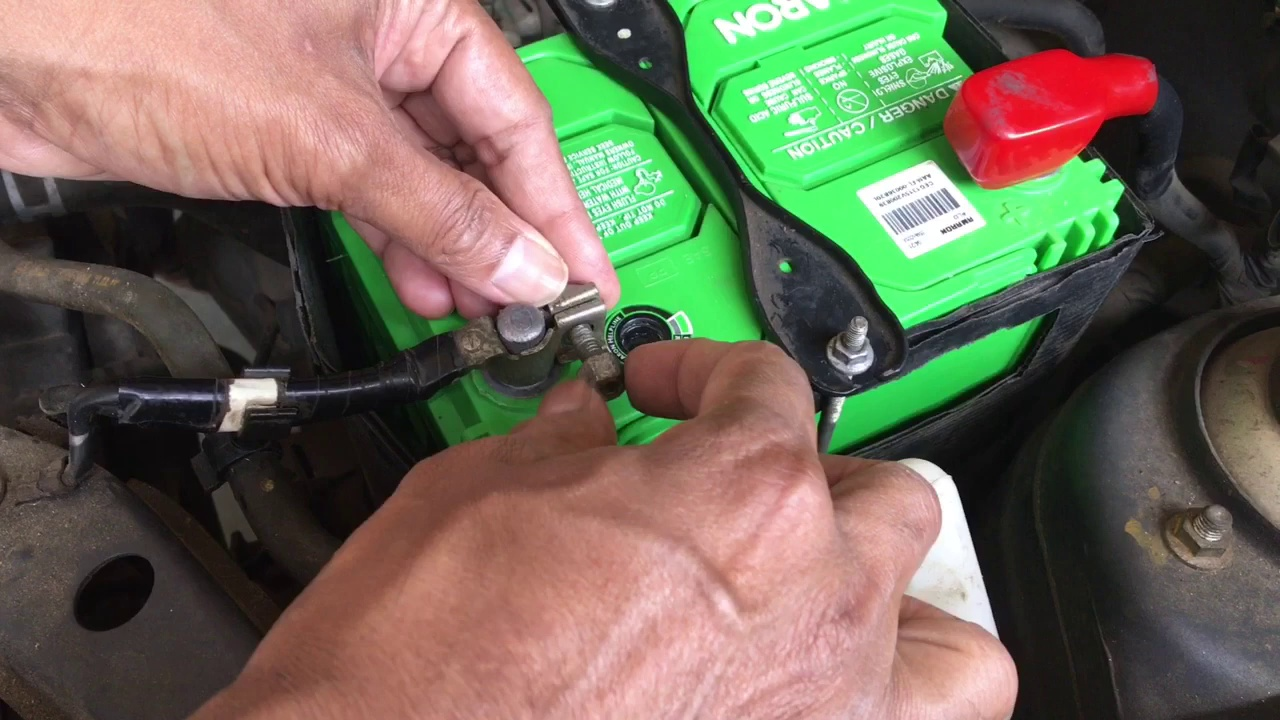battery: (331, 1, 1144, 451)
neg_connected: (374, 237, 609, 391)
neg_touched: (388, 154, 768, 492)
pos_connected: (943, 21, 1179, 185)
